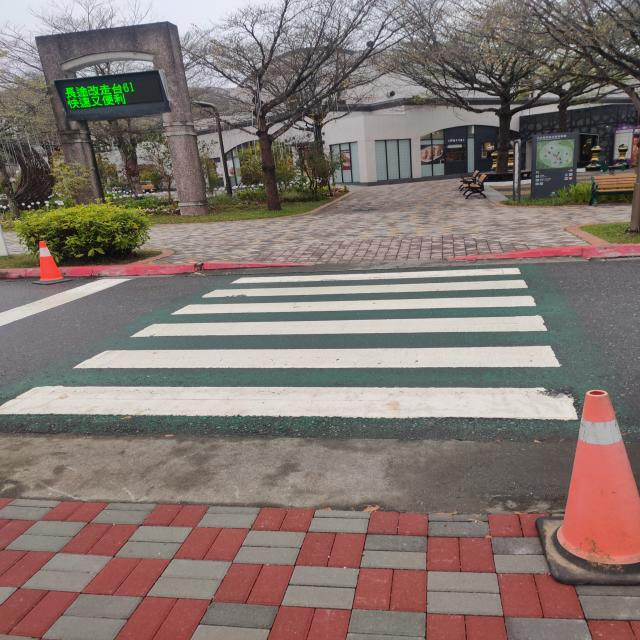zebra crossing: (0, 260, 594, 423)
